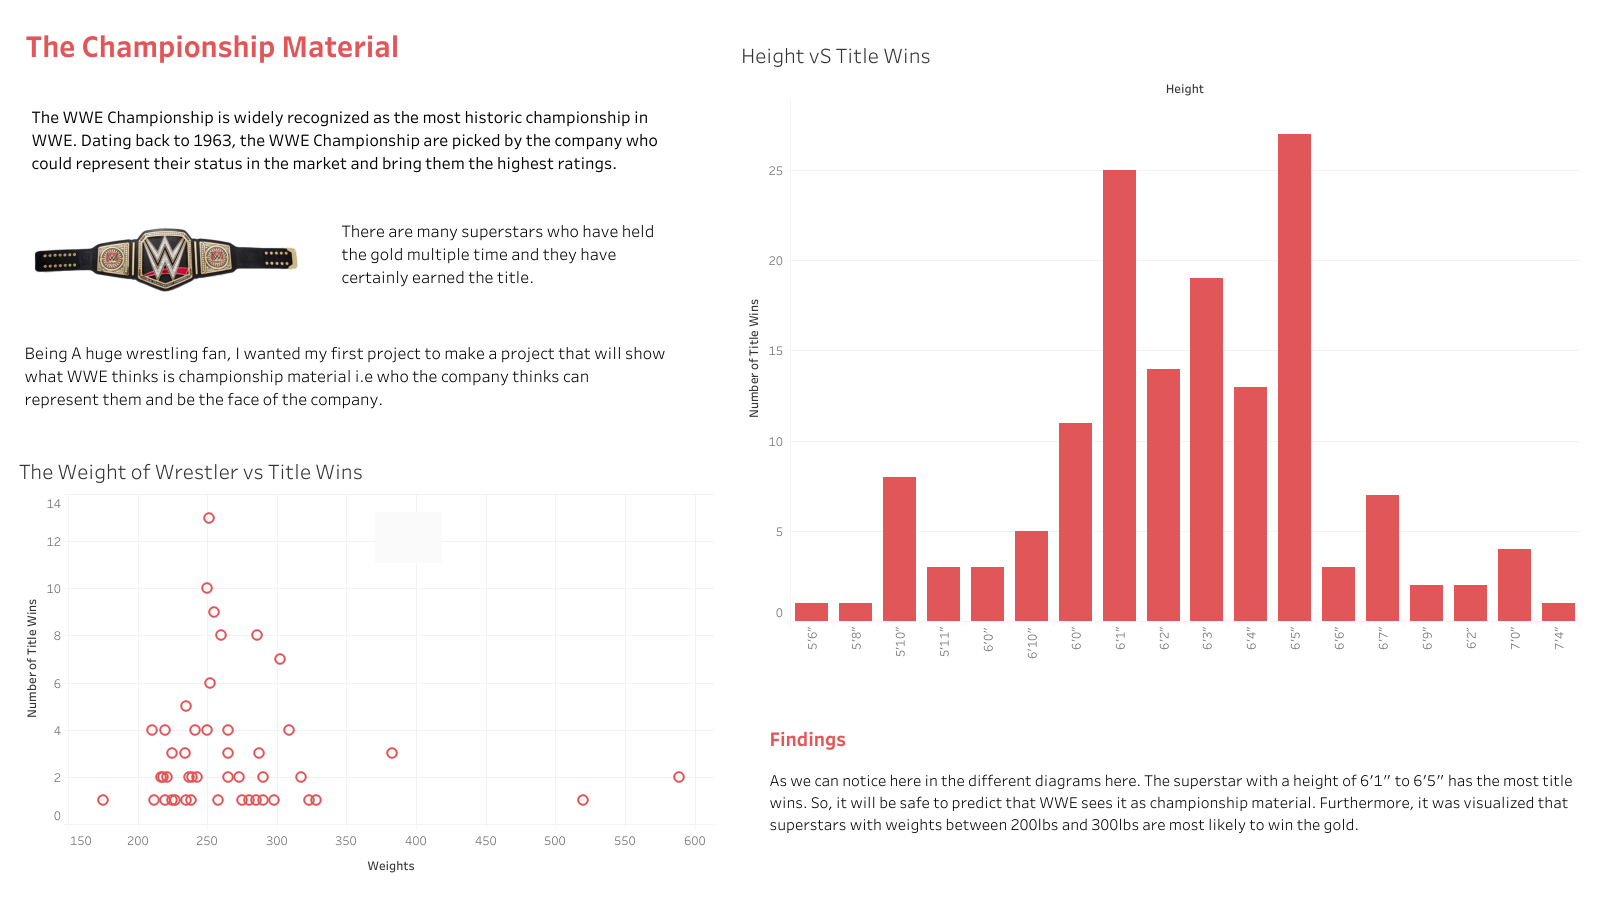

This screenshot's page, from the dashboard's own definition file:
{"tool":"tableau","page":{"name":"Dashboard 1","canvas":[1600,900],"ordinal":0},"visuals":[{"type":"text","box":[8,8,1584,884]},{"type":"title","box":[23,15,474,60]},{"type":"worksheet","title":"Height Vs Title Wins","mark":"Automatic","rows":["Number of Title Wins"],"cols":["Height"],"box":[737,35,843,626]},{"type":"text","box":[29,85,659,108]},{"type":"image","param":"Image/pngwing.com.png","box":[33,184,424,150]},{"type":"text","box":[339,213,322,81]},{"type":"text","box":[22,321,646,108]},{"type":"worksheet","title":"Weight vs title wins","mark":"Shape","rows":["Number of Title Wins"],"cols":["Weights"],"box":[15,451,699,430]},{"type":"text","box":[767,685,815,190]}]}

Visuals, with their boxes in screenshot pixels (x1, y1, x2, y2), scaled from the page's 1600x900 canvas onto the 1599x899 screenshot:
text: [8,8,1591,891]
title: [23,15,497,75]
"Height Vs Title Wins" worksheet: [737,35,1579,660]
text: [29,85,688,193]
image: [33,184,457,334]
text: [339,213,661,294]
text: [22,321,668,429]
"Weight vs title wins" worksheet (Shape marks): [15,450,714,880]
text: [767,684,1581,874]
